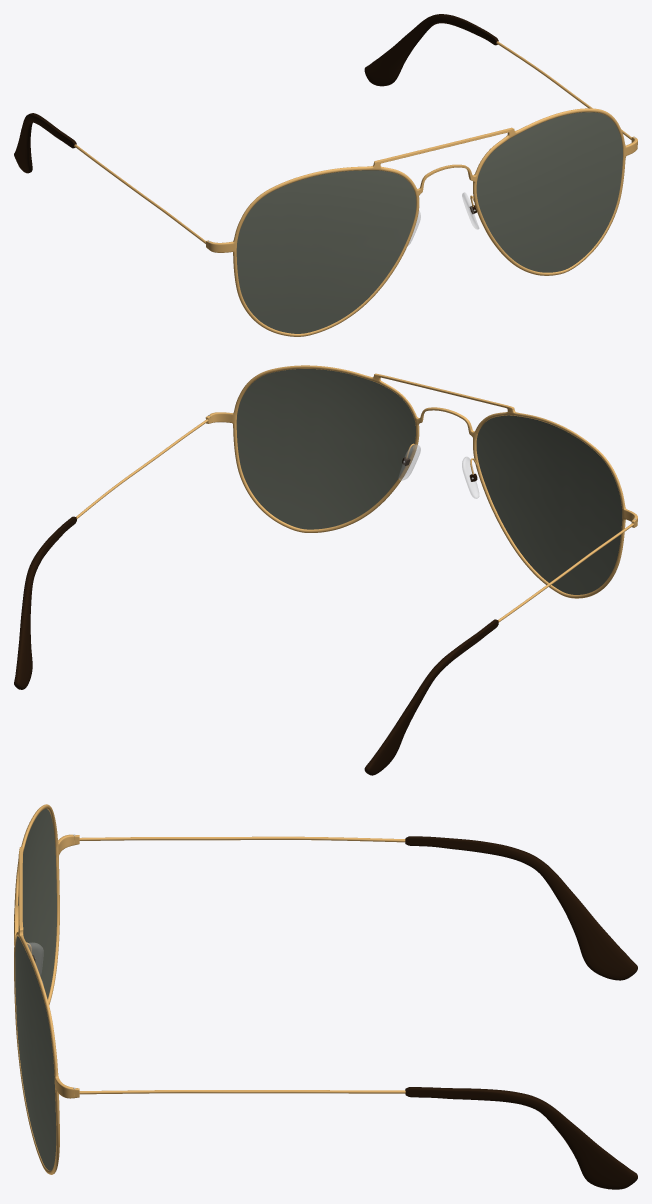
The model's file is aviator_sunglasses.glb.
3 renders of one model, top to bottom at view 1: azimuth 30°, elevation 25°; view 2: azimuth 150°, elevation 25°; view 3: azimuth 270°, elevation 25°, orthographic. The views are drawn at different scales.
Visible parts, largest first — view 1: Aviators_Glass tinted_0, Aviators_Gold metallic_0, Aviators_Black gloss_0; view 2: Aviators_Glass tinted_0, Aviators_Gold metallic_0, Aviators_Black gloss_0, Aviators_Transparent_0; view 3: Aviators_Glass tinted_0, Aviators_Black gloss_0, Aviators_Gold metallic_0.
Part boxes in pixels (box(x1,y1,x2,y2)): Aviators_Glass tinted_0: box(236, 112, 622, 333); Aviators_Gold metallic_0: box(74, 41, 637, 336); Aviators_Black gloss_0: box(14, 14, 498, 214); Aviators_Glass tinted_0: box(236, 369, 622, 594); Aviators_Gold metallic_0: box(76, 365, 637, 622); Aviators_Black gloss_0: box(14, 457, 498, 775); Aviators_Transparent_0: box(399, 444, 478, 498); Aviators_Glass tinted_0: box(15, 808, 56, 1170); Aviators_Black gloss_0: box(32, 836, 637, 1189); Aviators_Gold metallic_0: box(14, 804, 405, 1174).
Bounding box in the file's own units: 0.1396 × 0.052 × 0.1444.
